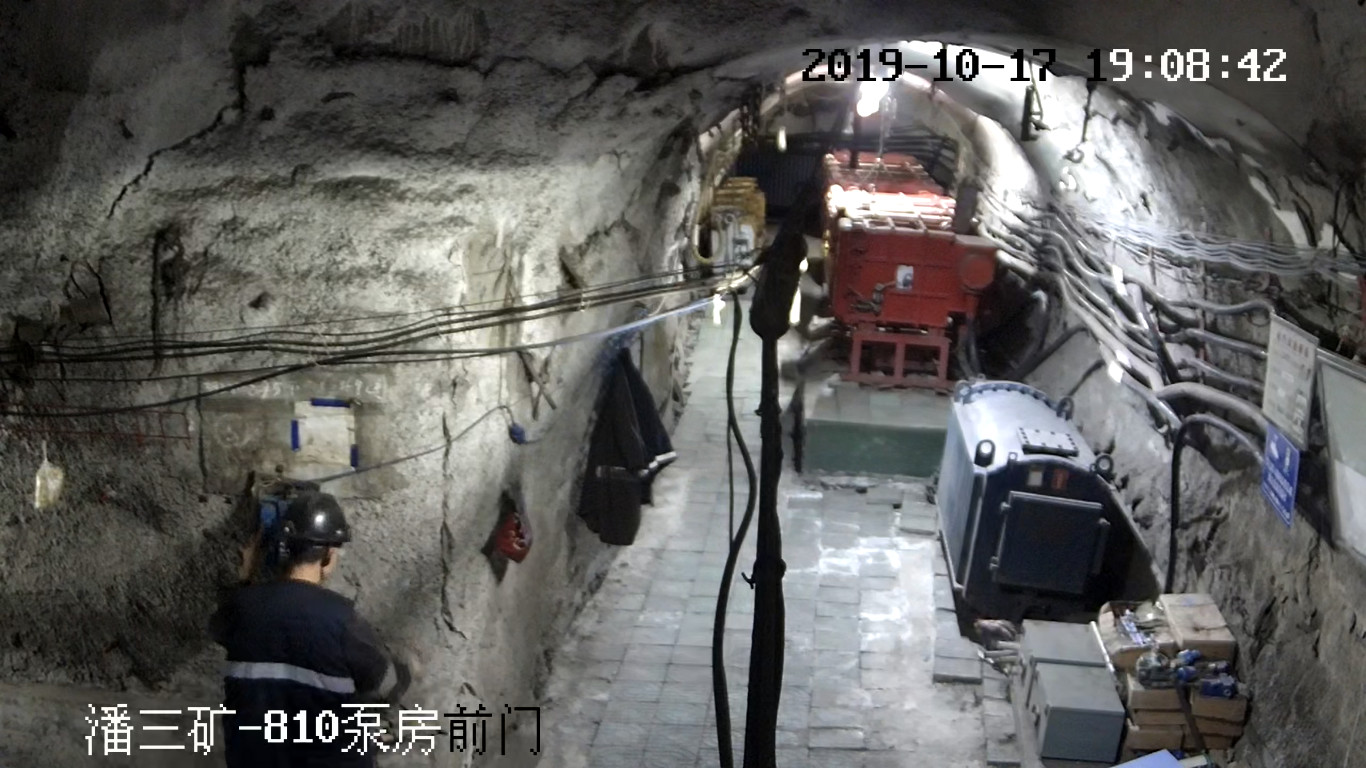helmet: (273, 490, 348, 546)
